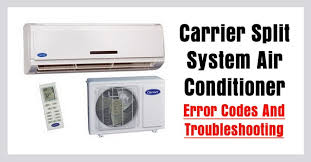ac: (21, 19, 167, 75)
